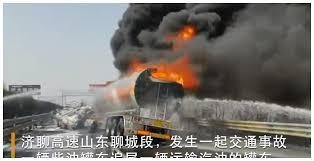fire: (122, 33, 202, 87)
